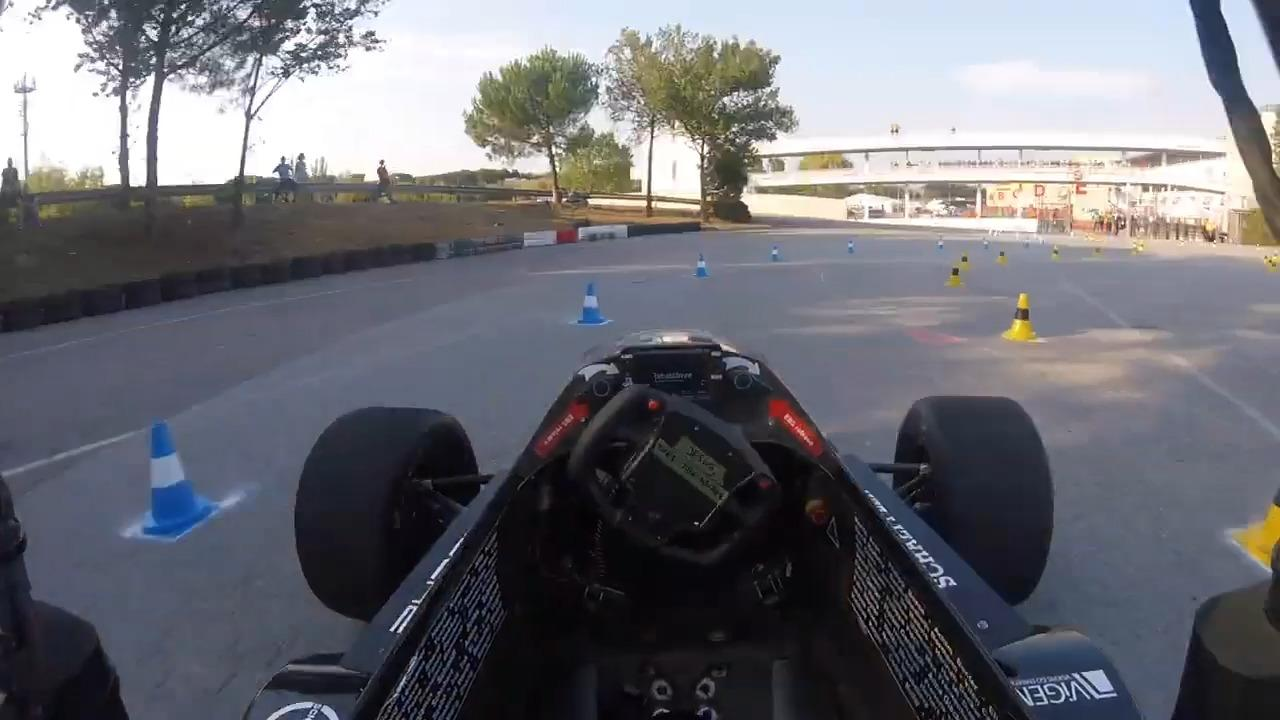blue_cone: (108, 413, 226, 541), (572, 278, 606, 328), (693, 254, 708, 280), (769, 243, 785, 263), (935, 236, 950, 253), (845, 239, 857, 254), (1022, 236, 1033, 249), (981, 239, 991, 252)
yellow_cone: (1227, 468, 1280, 580), (1001, 290, 1039, 346), (942, 262, 967, 289), (958, 251, 972, 269), (996, 249, 1010, 265), (1094, 246, 1102, 260), (1130, 247, 1140, 258), (1138, 239, 1147, 251), (1272, 250, 1280, 263), (1270, 262, 1279, 272), (1052, 247, 1060, 258), (1263, 253, 1268, 265), (1268, 256, 1273, 265), (1132, 239, 1137, 248)
